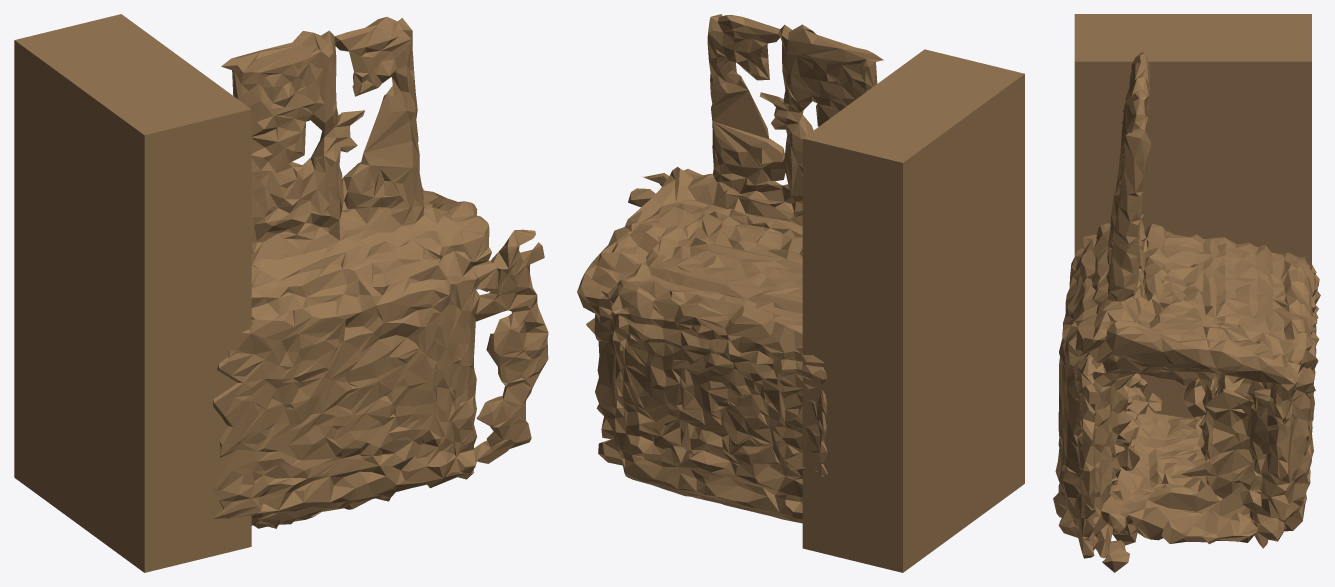
Rendered from improved.glb.
The picture shows the model from 3 angles, left to right: view 1: azimuth 30°, elevation 25°; view 2: azimuth 150°, elevation 25°; view 3: azimuth 270°, elevation 25°; orthographic projection. The views are drawn at different scales.
Visible parts, largest first — view 1: world; view 2: world; view 3: world.
Part boxes in pixels (x1,y1,x2,y2): world: (14,14,548,572); world: (577,14,1024,572); world: (1053,14,1320,572).
Size of the model in its own units: 1.2 by 1.34 by 0.7411.
